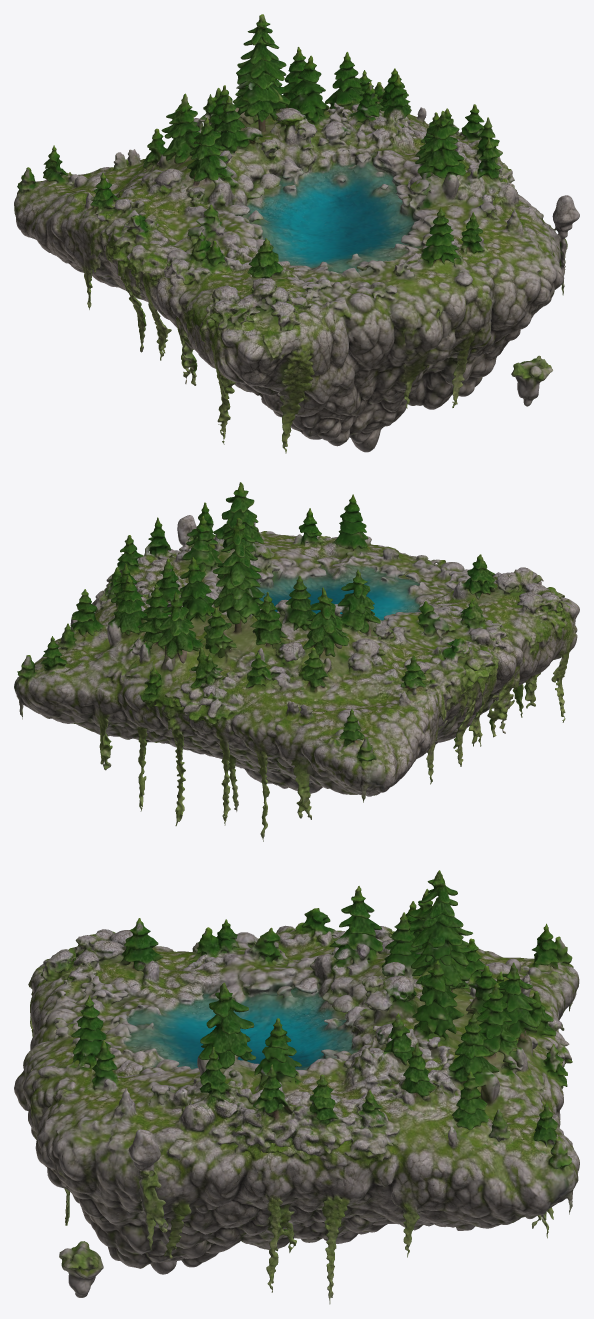
File: forest-sanctuary_meshy.glb
3 views of the same model, one above another, from view 1: azimuth 30°, elevation 25°; view 2: azimuth 150°, elevation 25°; view 3: azimuth 270°, elevation 25° (orthographic). The views are drawn at different scales.
Bounding box in the file's own units: 1.75 × 1.48 × 1.85.
1 material, 1 textured.
